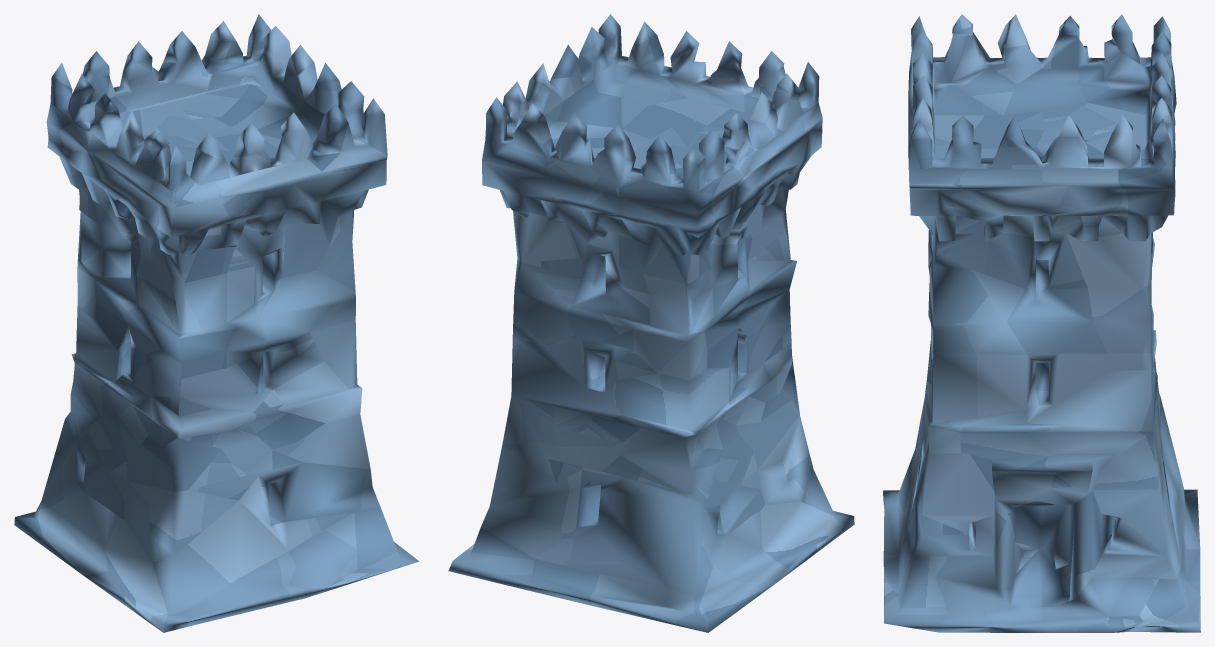
Rendered from castle_tower_medium_diamond_ice_lo.glb.
The picture shows the model from 3 angles, left to right: view 1: azimuth 30°, elevation 25°; view 2: azimuth 150°, elevation 25°; view 3: azimuth 270°, elevation 25°; orthographic projection. The views are drawn at different scales.
Visible parts, largest first — view 1: tripo_node_95178185-30f7-4753-b266-cb30b1ff8cf8; view 2: tripo_node_95178185-30f7-4753-b266-cb30b1ff8cf8; view 3: tripo_node_95178185-30f7-4753-b266-cb30b1ff8cf8.
Boxes of the visible parts, box(x1,y1,x2,y2) form: tripo_node_95178185-30f7-4753-b266-cb30b1ff8cf8: box(14, 14, 419, 632); tripo_node_95178185-30f7-4753-b266-cb30b1ff8cf8: box(448, 14, 854, 632); tripo_node_95178185-30f7-4753-b266-cb30b1ff8cf8: box(883, 14, 1200, 632).
Size of the model in its own units: 0.5624 by 0.9797 by 0.5612.
1 material, 1 textured.
